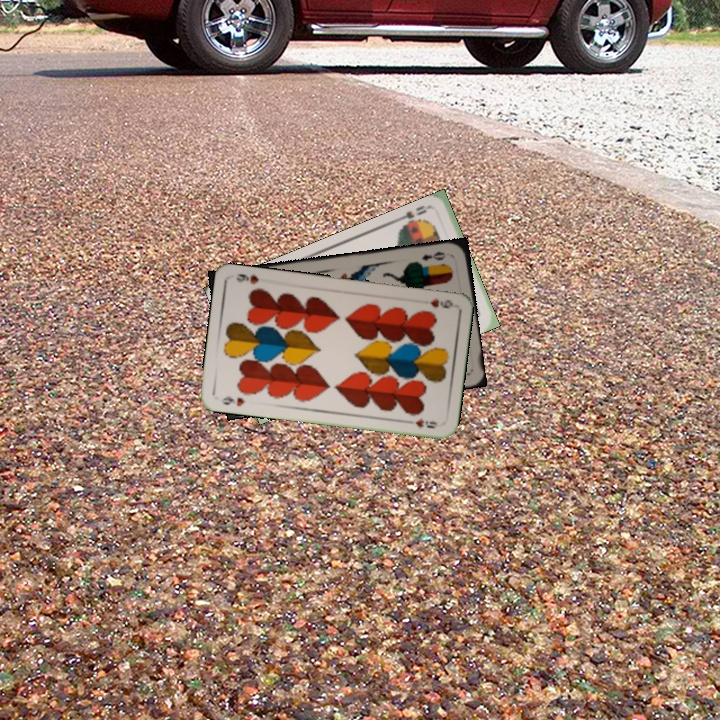EO: (418, 247, 448, 263)
H9: (217, 392, 248, 409), (426, 294, 455, 311)
SO: (395, 201, 435, 230)
